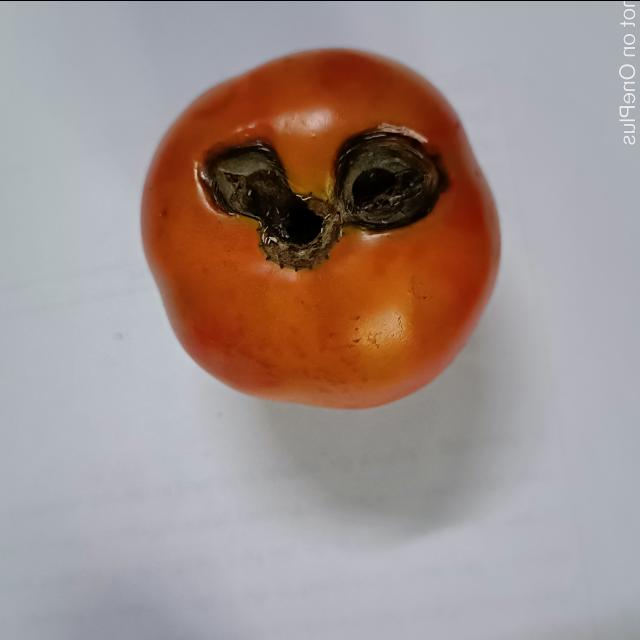Anthrocnose: (195, 122, 443, 268)
